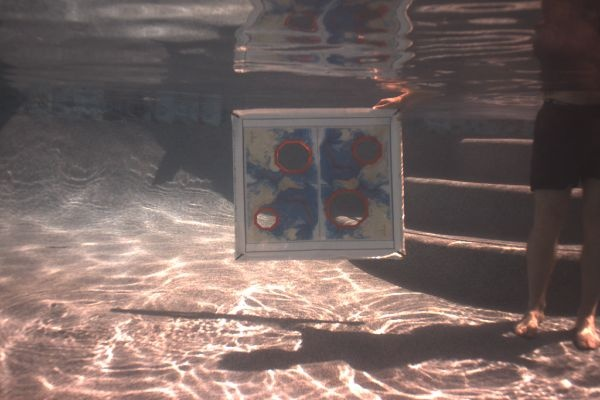torpille: (231, 107, 405, 261)
torpille_target: (326, 189, 368, 229), (274, 141, 312, 173), (352, 135, 382, 165), (254, 207, 278, 231)
